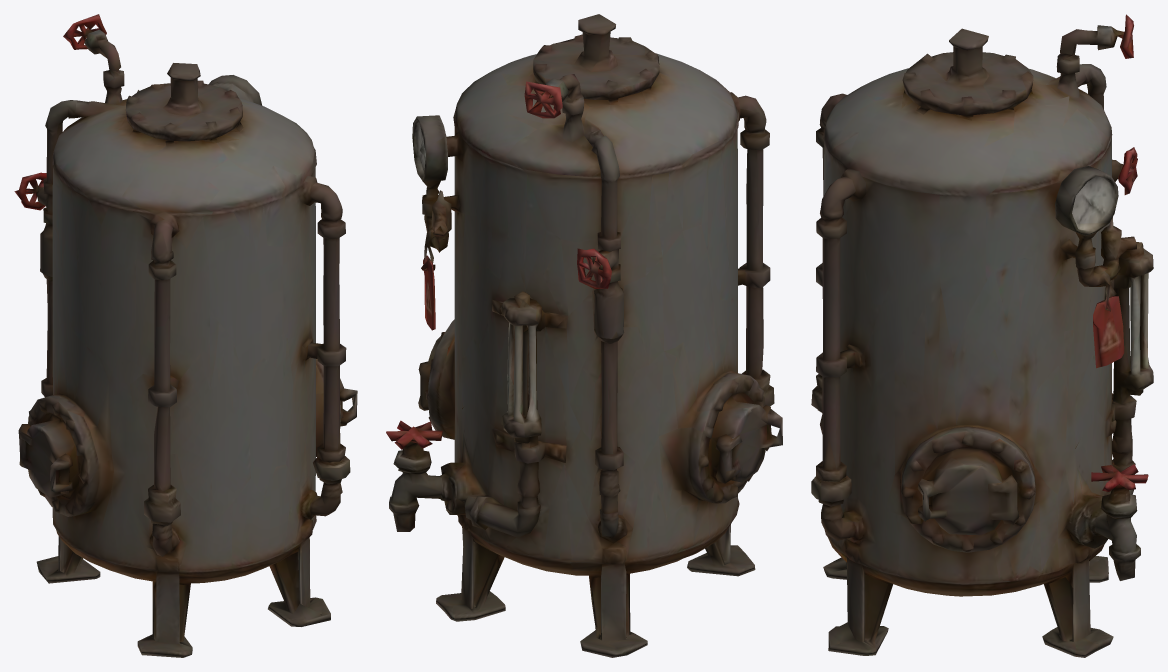
File: boiler.glb
3 renders of one model, left to right at view 1: azimuth 30°, elevation 25°; view 2: azimuth 150°, elevation 25°; view 3: azimuth 270°, elevation 25°, orthographic. The views are drawn at different scales.
Parts seen in each view (by area): view 1: tripo_node_7980a72c-4c38-4ac4-a739-16c905bef440; view 2: tripo_node_7980a72c-4c38-4ac4-a739-16c905bef440; view 3: tripo_node_7980a72c-4c38-4ac4-a739-16c905bef440.
Boxes of the visible parts, box(x1,y1,x2,y2) form: tripo_node_7980a72c-4c38-4ac4-a739-16c905bef440: box(14, 14, 357, 657); tripo_node_7980a72c-4c38-4ac4-a739-16c905bef440: box(386, 14, 782, 657); tripo_node_7980a72c-4c38-4ac4-a739-16c905bef440: box(811, 14, 1153, 657).
Size of the model in its own units: 0.6089 by 1 by 0.5407.
1 material, 1 textured.
